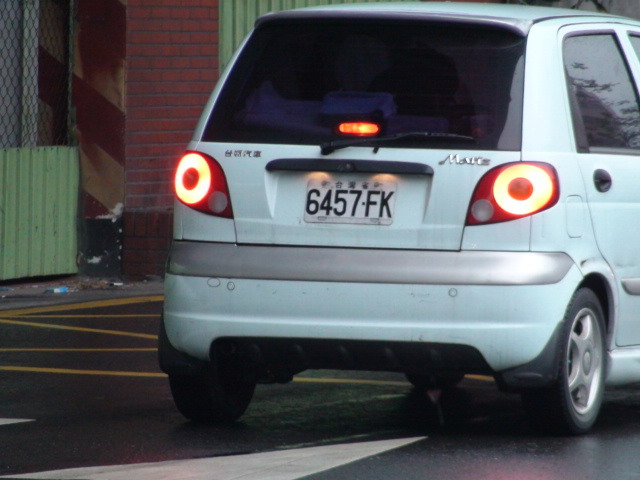plate: (301, 173, 401, 228)
